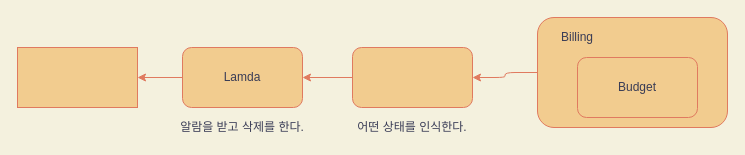
Image size: 745x155. Some labels were removed from this diagram. The centre of each missing label's shape, as x and y in pixels:
EC2: the point at 77,77
Simple Notification Service: the point at 412,77
